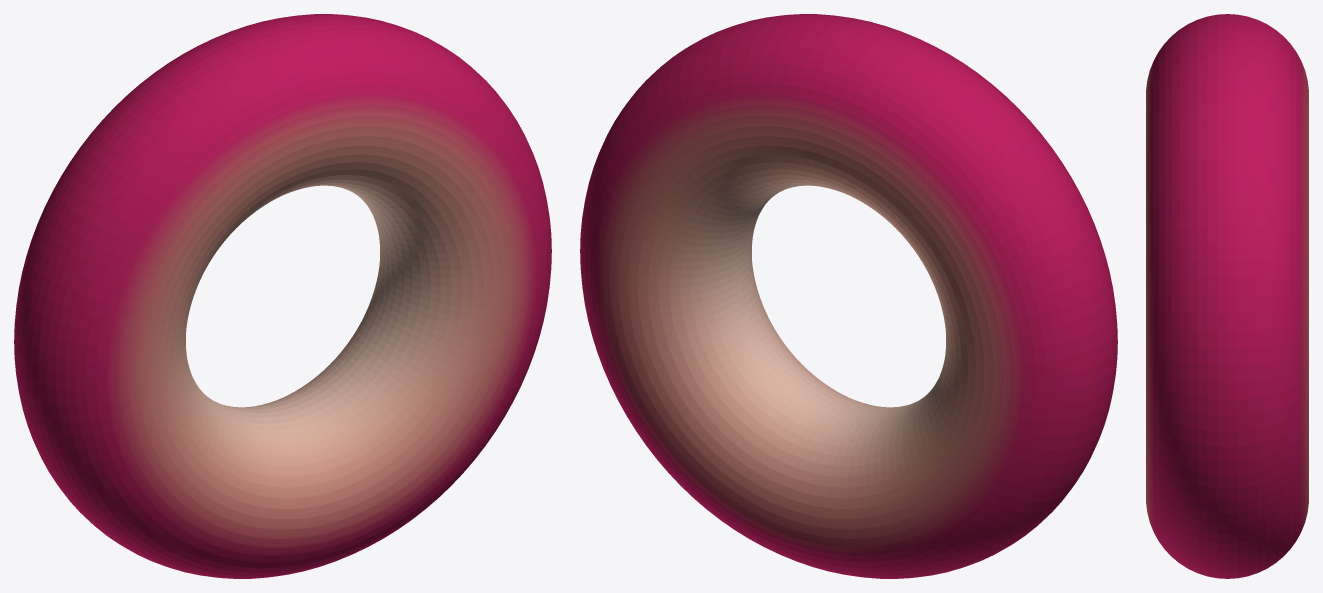
3 views of the same model, side by side, from view 1: azimuth 30°, elevation 25°; view 2: azimuth 150°, elevation 25°; view 3: azimuth 270°, elevation 25° (orthographic). The views are drawn at different scales.
Visible parts, largest first — view 1: world; view 2: world; view 3: world.
Boxes of the visible parts, x1,y1,x2,y2 form: world: (14,14,551,578); world: (580,14,1117,578); world: (1146,14,1308,578).
Bounding box in the file's own units: 29.07 × 29.07 × 8.38.
